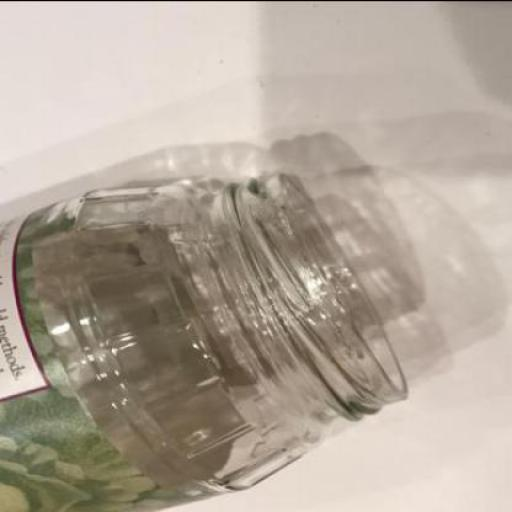glass: (0, 174, 404, 512)
